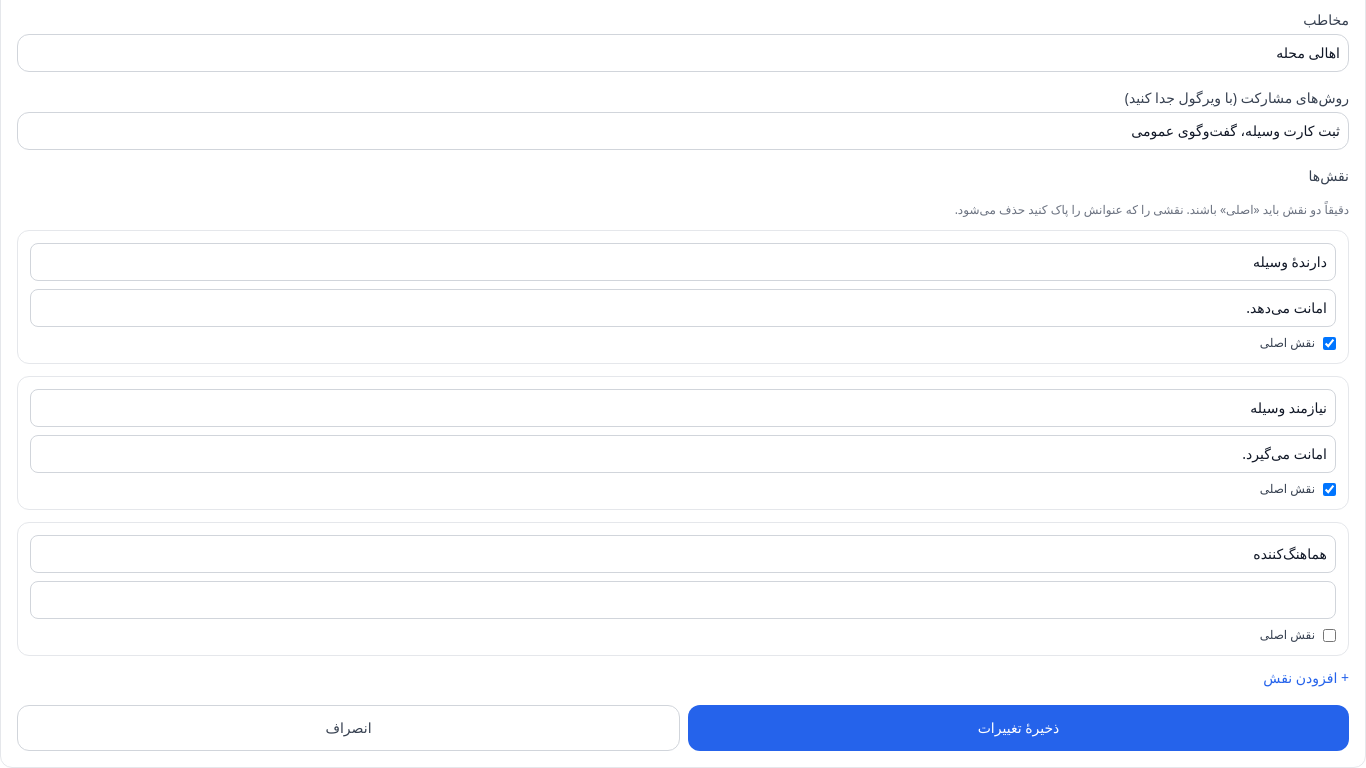
Test: SpaceEditForm › shows a structural refusal in plain words, with no rule to cite
(page scrolled)
Click the button "ذخیرهٔ تغییرات" at (1018, 728), box x1=688 y1=705 x2=1349 y2=751
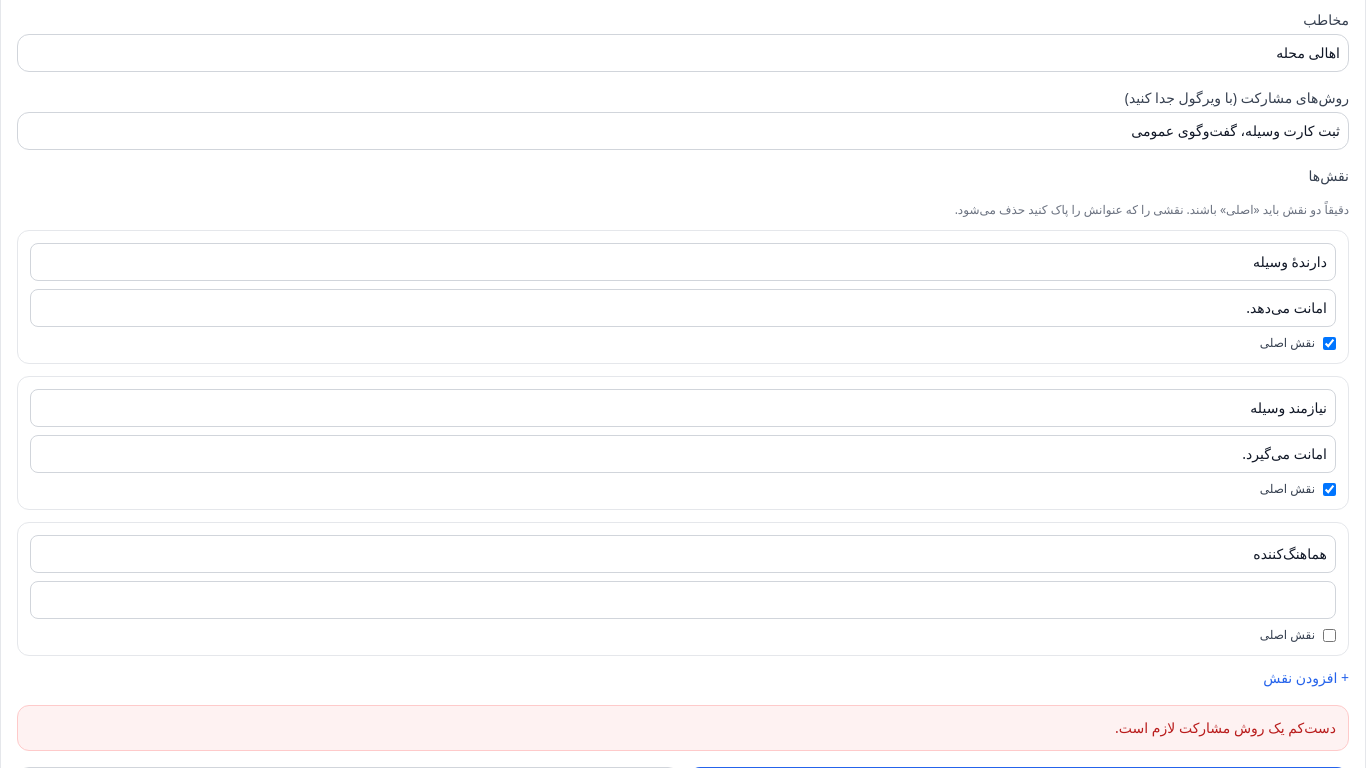
Now the message reads "دست‌کم یک روش مشارکت لازم است.", box x1=1115 y1=718 x2=1336 y2=737
